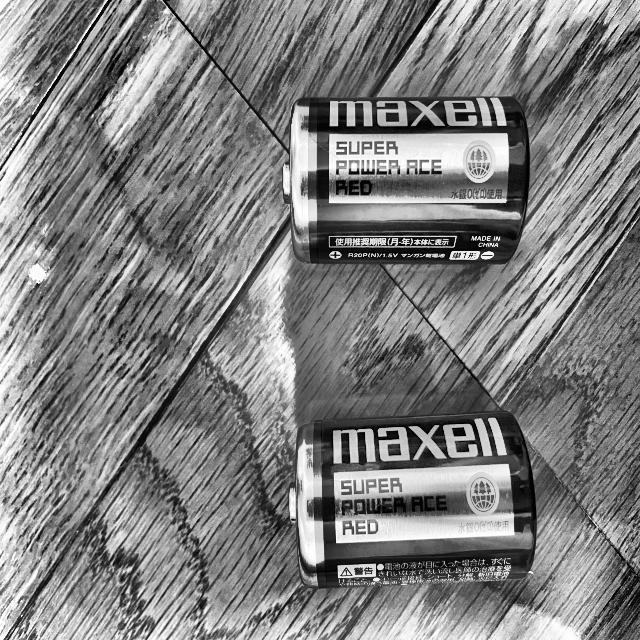drycell: (281, 410, 548, 600), (280, 90, 540, 276)
